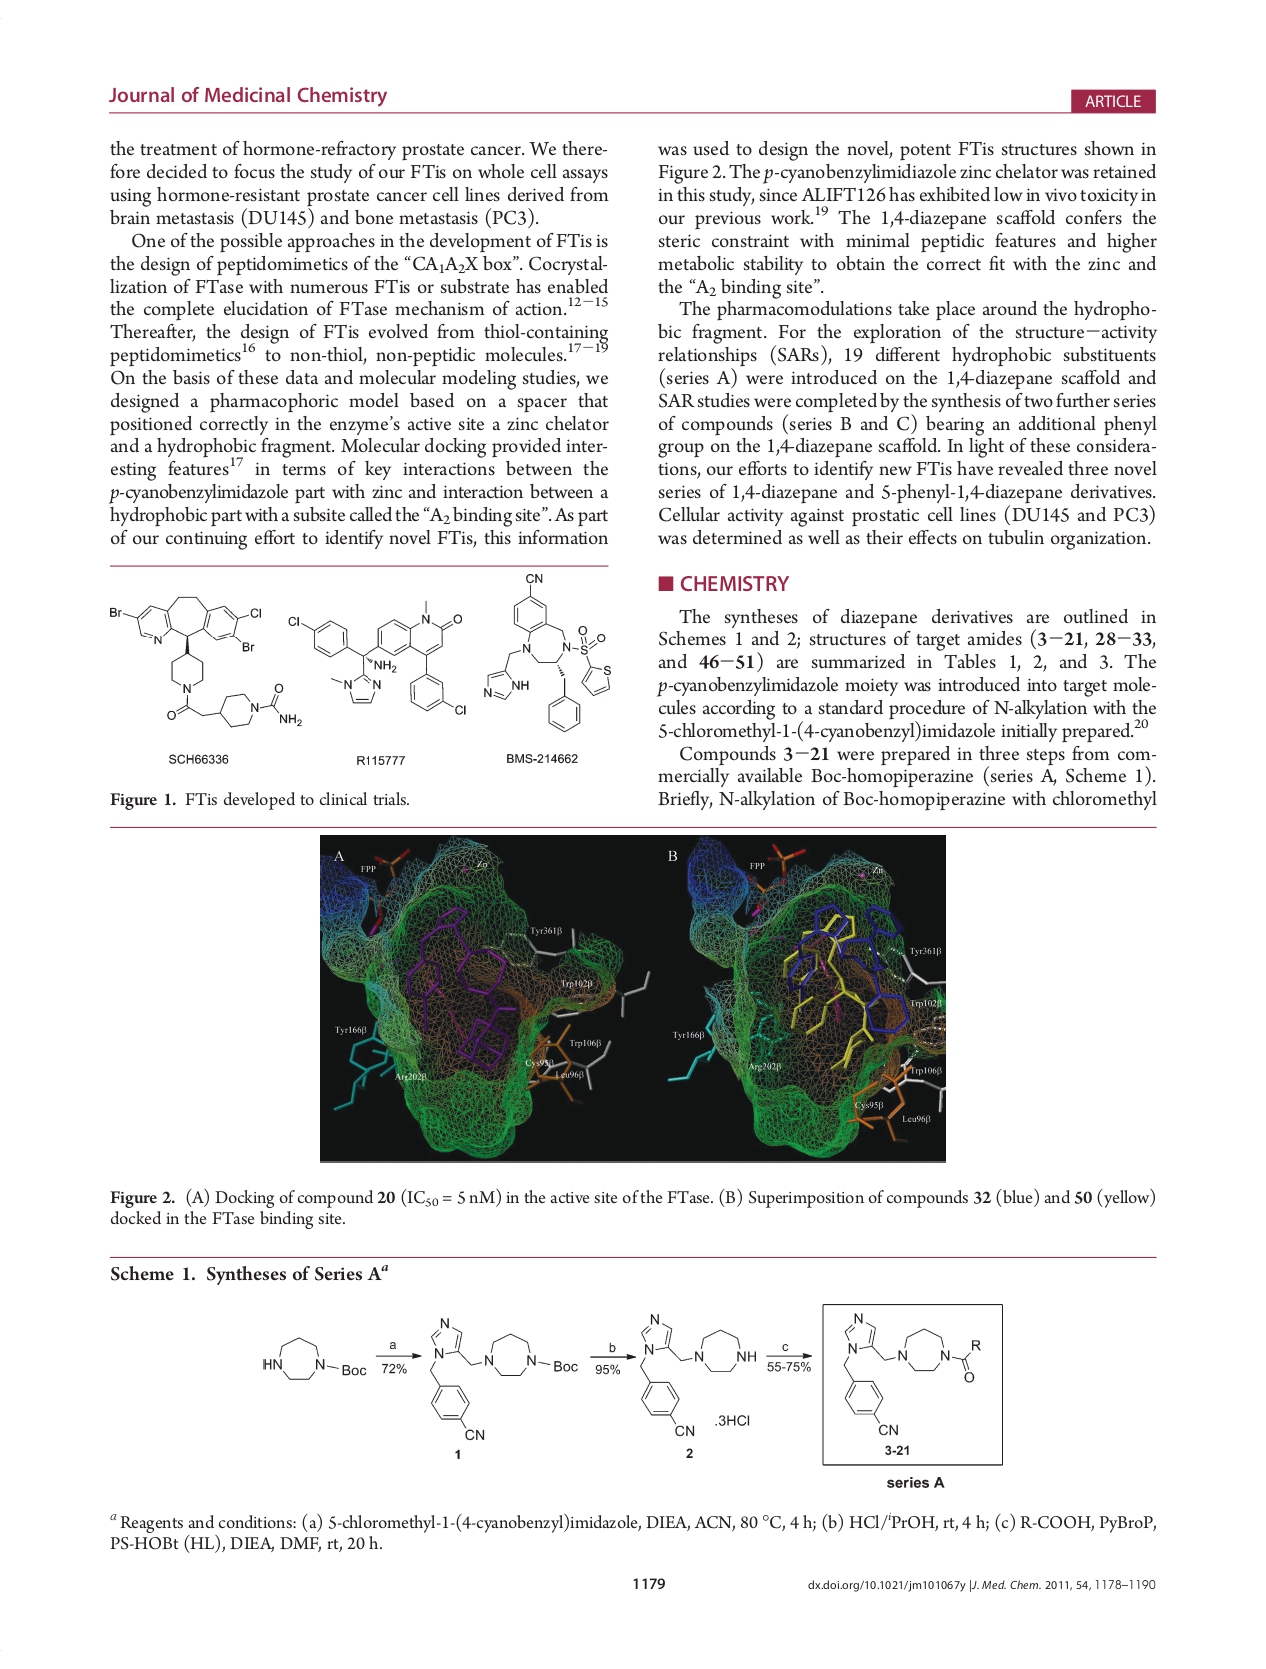exist_molecular: (102, 592, 303, 730), (287, 598, 469, 715), (481, 571, 614, 730), (426, 1313, 581, 1442), (842, 1311, 981, 1438), (637, 1310, 758, 1438), (261, 1334, 367, 1384)
